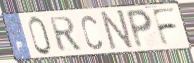0: (26, 15, 53, 57)
C: (80, 14, 104, 52)
F: (150, 7, 180, 48)
N: (100, 9, 135, 52)
P: (125, 8, 154, 50)
R: (47, 15, 83, 53)
